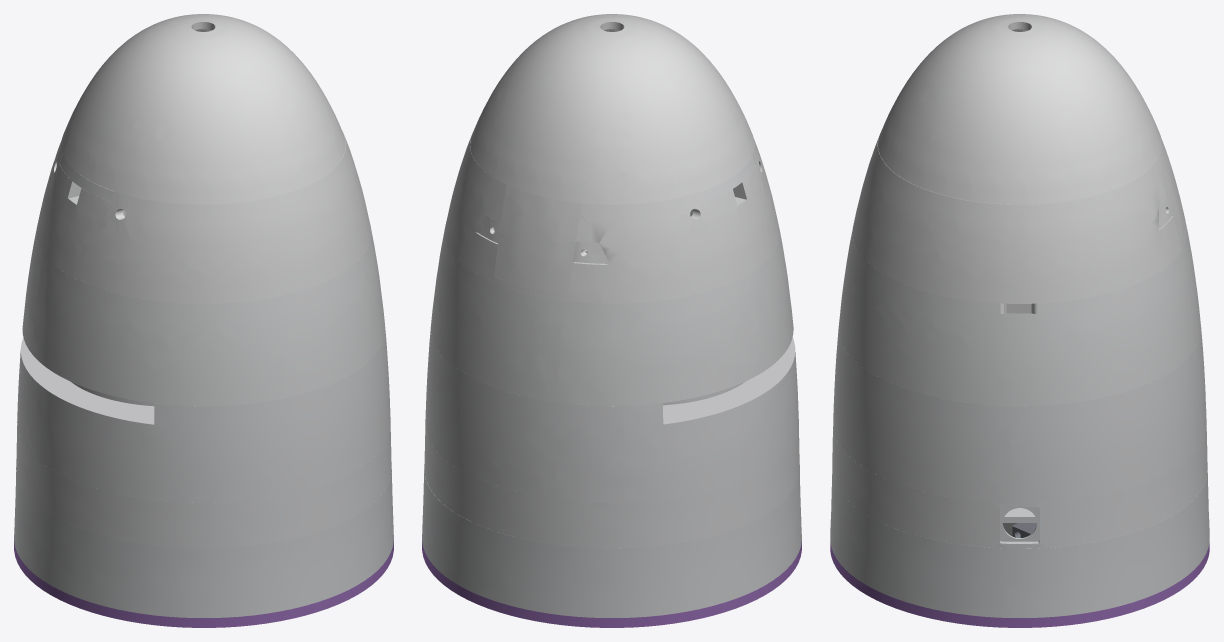
File: pet-robot-assembly.glb
The picture shows the model from 3 angles, left to right: view 1: azimuth 30°, elevation 25°; view 2: azimuth 150°, elevation 25°; view 3: azimuth 270°, elevation 25°; orthographic projection.
Parts seen in each view (by area): view 1: top_dome_teaser, shell_mid_upper, shell_shooter_housing, middle_camera_battery_shell, chassis_drive_skirt, shell_lower_electronics, chassis_acrylic_base, camera_lens_clamp; view 2: top_dome_teaser, shell_mid_upper, shell_shooter_housing, chassis_drive_skirt, middle_camera_battery_shell, shell_lower_electronics, battery_door, chassis_acrylic_base, camera_lens_clamp; view 3: top_dome_teaser, shell_mid_upper, shell_shooter_housing, middle_camera_battery_shell, chassis_drive_skirt, shell_lower_electronics, chassis_acrylic_base, battery_door.
Boxes of the visible parts, box(x1,y1,x2,y2) form: top_dome_teaser: box(61, 14, 345, 204); shell_mid_upper: box(22, 230, 385, 406); shell_shooter_housing: box(17, 330, 390, 502); middle_camera_battery_shell: box(36, 131, 371, 303); chassis_drive_skirt: box(14, 469, 393, 617); shell_lower_electronics: box(16, 425, 391, 548); chassis_acrylic_base: box(14, 541, 393, 627); camera_lens_clamp: box(59, 154, 113, 201); top_dome_teaser: box(470, 14, 754, 204); shell_mid_upper: box(430, 230, 793, 405); shell_shooter_housing: box(425, 331, 798, 502); chassis_drive_skirt: box(422, 470, 801, 617); middle_camera_battery_shell: box(444, 131, 779, 303); shell_lower_electronics: box(424, 426, 799, 548); battery_door: box(476, 185, 608, 294); chassis_acrylic_base: box(422, 541, 801, 627); camera_lens_clamp: box(699, 155, 755, 202); top_dome_teaser: box(878, 14, 1162, 204); shell_mid_upper: box(838, 230, 1201, 406); shell_shooter_housing: box(833, 329, 1206, 502); middle_camera_battery_shell: box(852, 136, 1187, 303); chassis_drive_skirt: box(830, 471, 1209, 617); shell_lower_electronics: box(832, 426, 1207, 548); chassis_acrylic_base: box(830, 542, 1209, 627); battery_door: box(1155, 139, 1186, 245).
Bounding box in the file's own units: 175 × 265 × 175.
